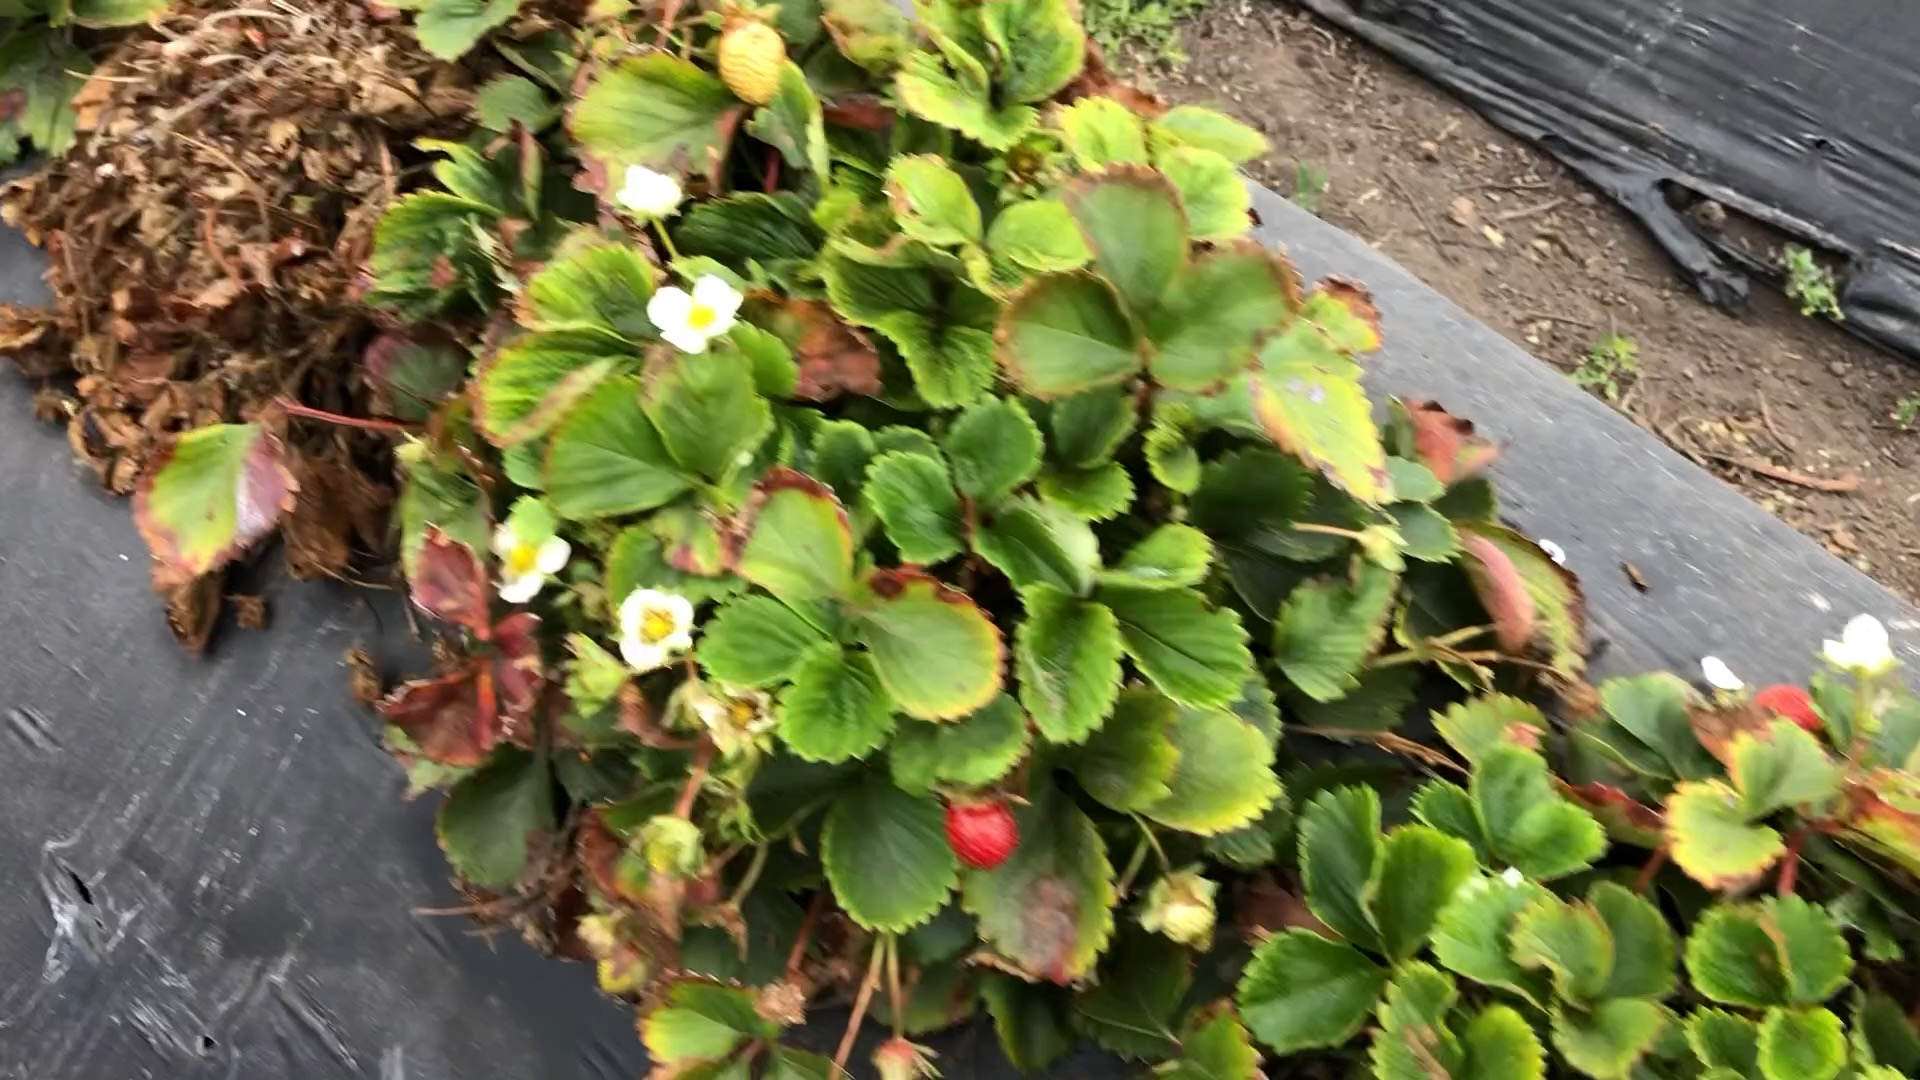ripe_strawberry: (942, 781, 1023, 872)
unripe_strawberry: (705, 7, 790, 107)
